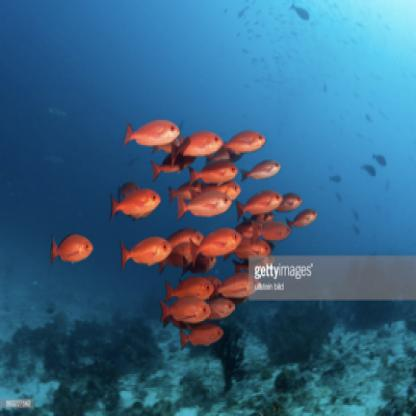snapper: (45, 222, 100, 277), (156, 289, 214, 327), (118, 233, 174, 272), (174, 185, 233, 221), (107, 182, 164, 219), (120, 115, 182, 149), (223, 124, 269, 155)
